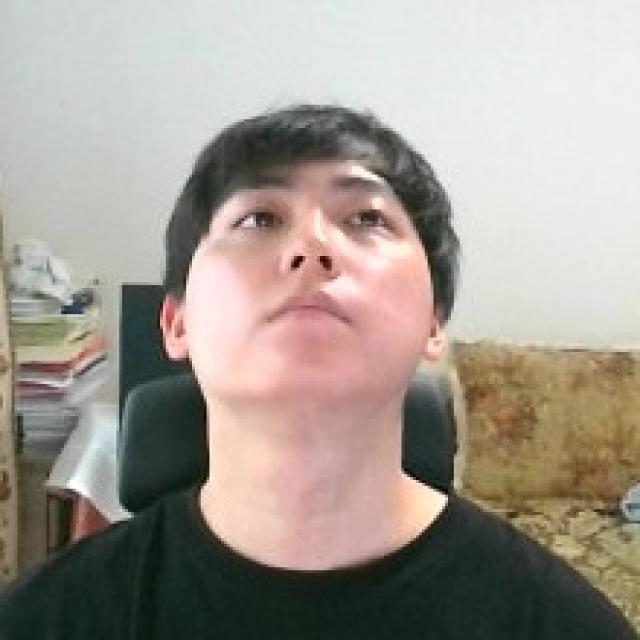eye: (332, 204, 397, 233), (228, 205, 285, 234)
gaze: (360, 211, 379, 229), (256, 213, 274, 230)
